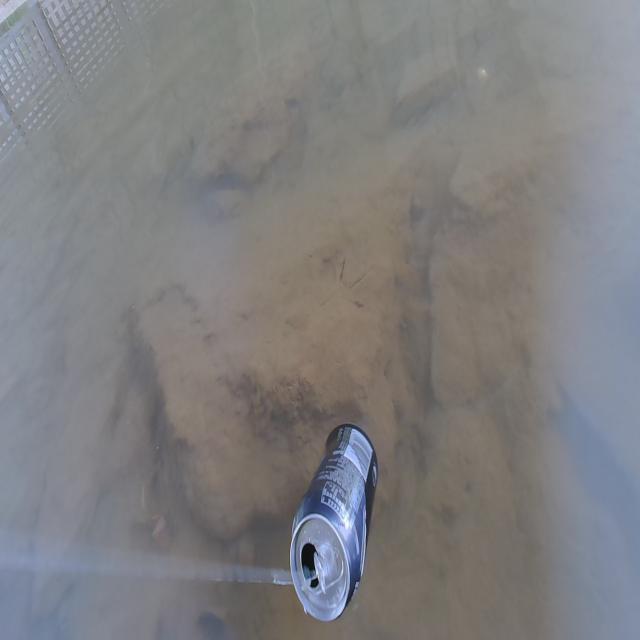garbage: (289, 420, 379, 622)
